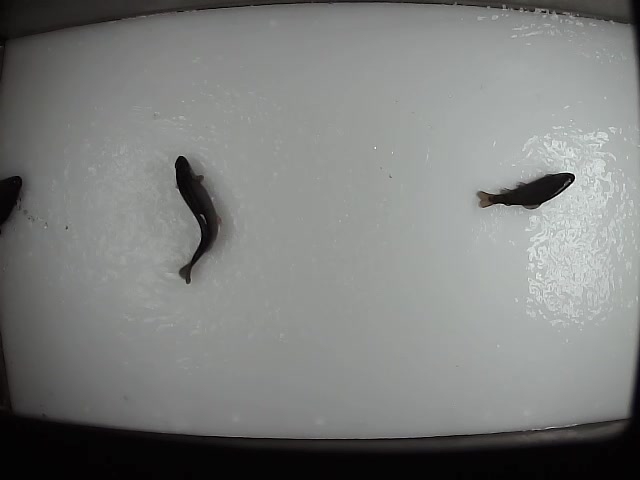fish: (168, 150, 221, 287), (475, 170, 579, 211)
